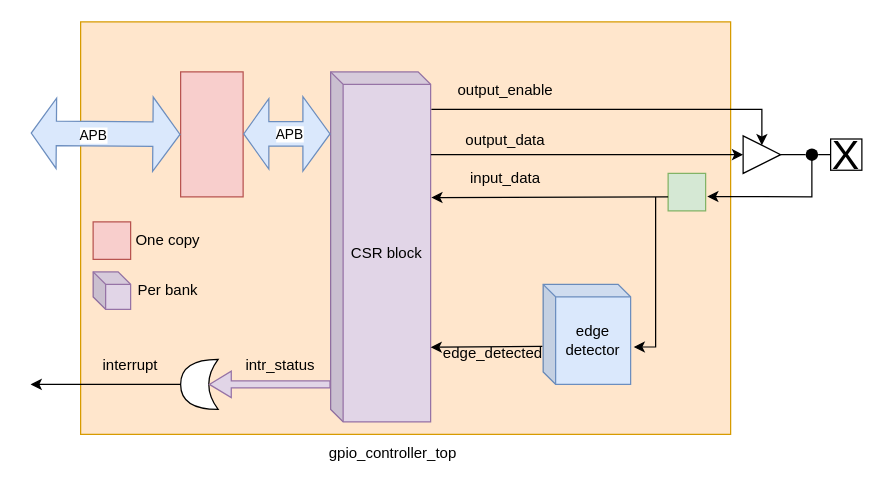
This 884x494 diagram has some shape labels left out. The shapes that lost their labels are listed below. From the top down, each one's centre as x and y in pixels, then its label:
the point at 211,134: APB decoder
the point at 686,191: sync
